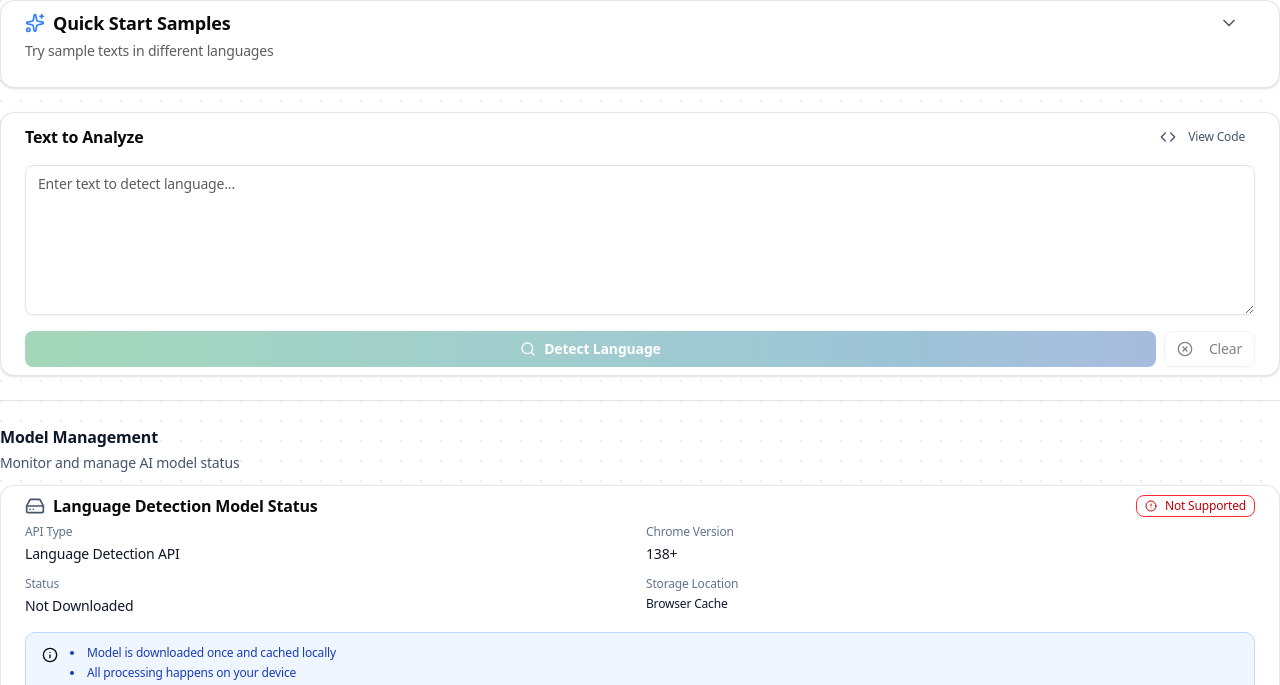
Test: Language Detection Integration › Error Handling › should recover from error state
Type "Test" into the text box at (640, 240), box left=25, top=165, right=1255, bottom=315
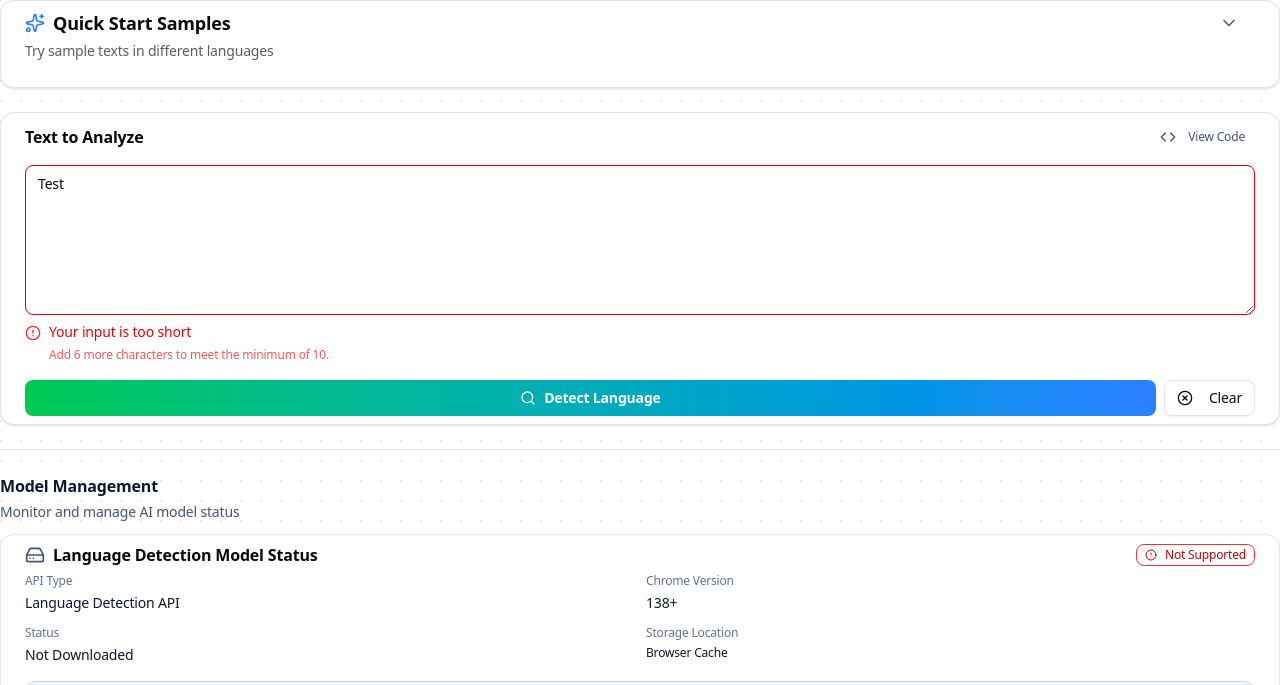
Click the button "Detect Language" at (590, 398), box left=25, top=380, right=1156, bottom=416
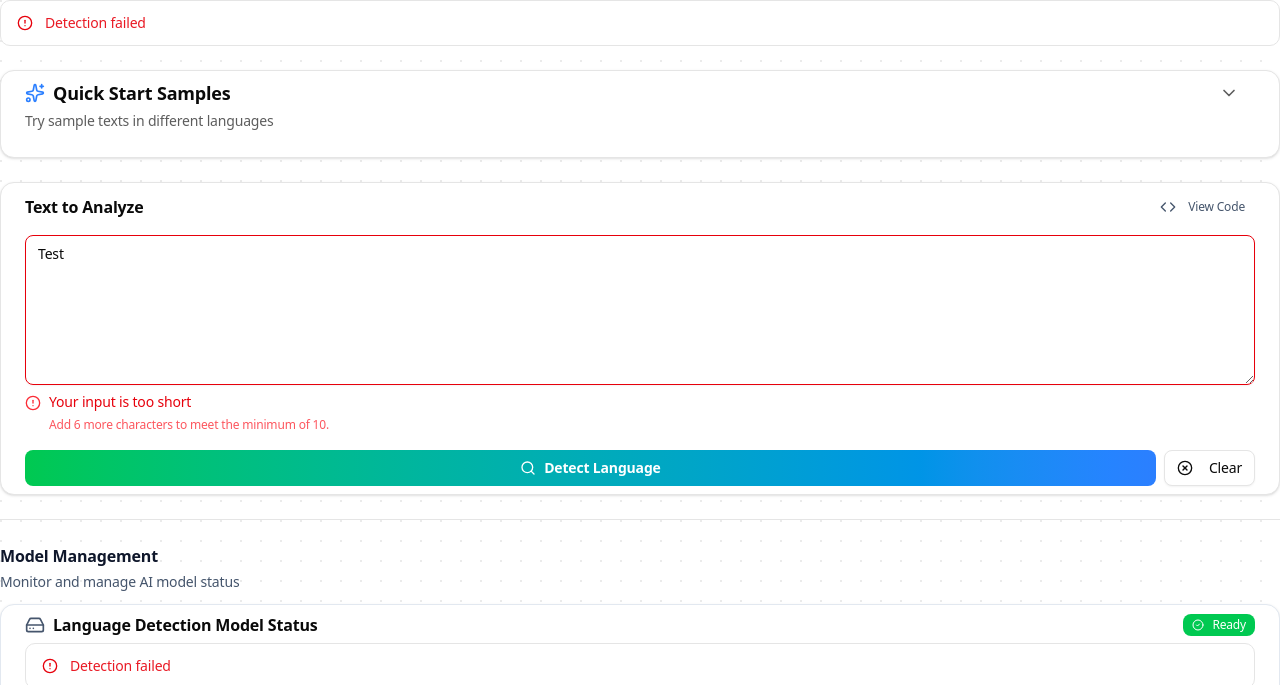
Now the button "Detect Language" is enabled, box left=25, top=450, right=1156, bottom=486
Replace the text in the text box with "Hello" at (640, 310), box left=25, top=235, right=1255, bottom=385
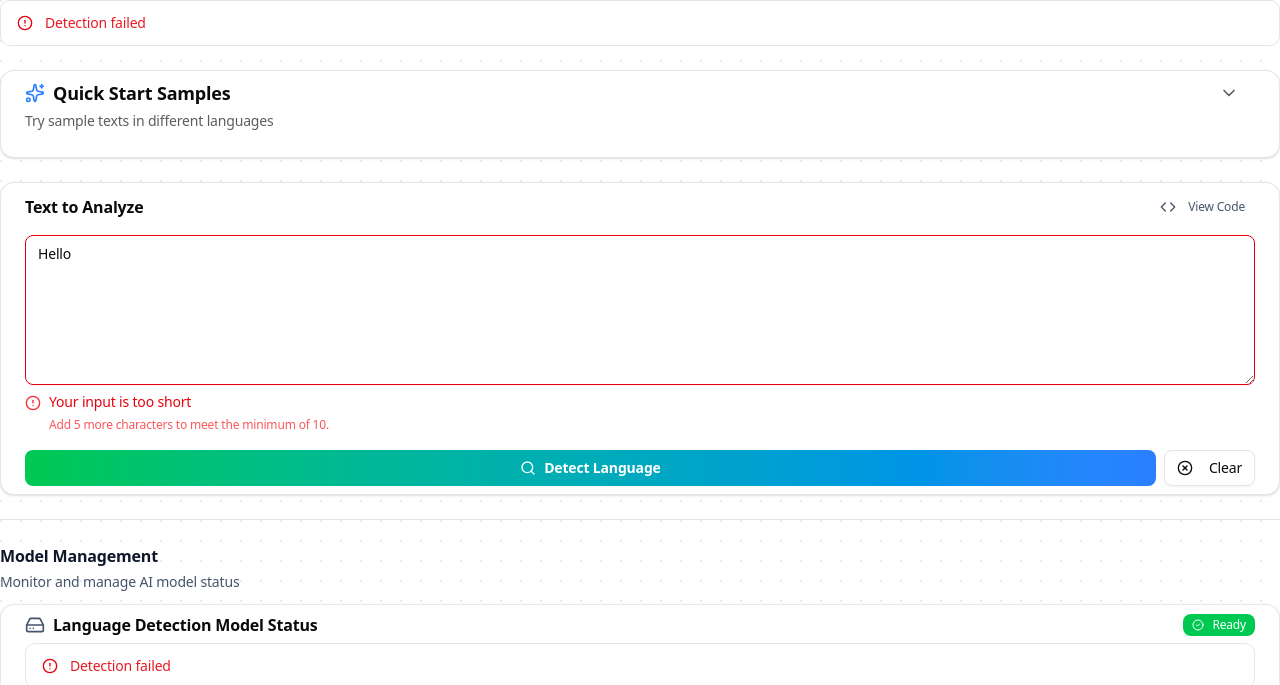
Click the button "Detect Language" at (590, 468), box left=25, top=450, right=1156, bottom=486
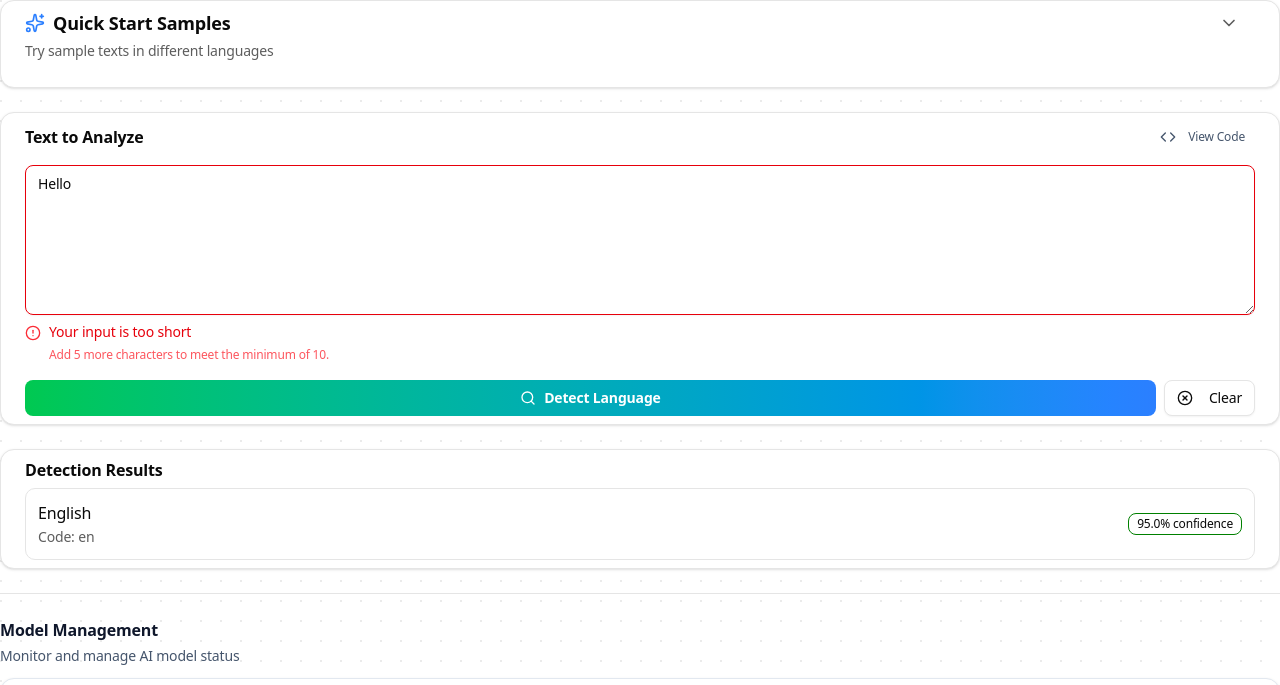
Now the text "English" is shown, box left=38, top=502, right=91, bottom=524
